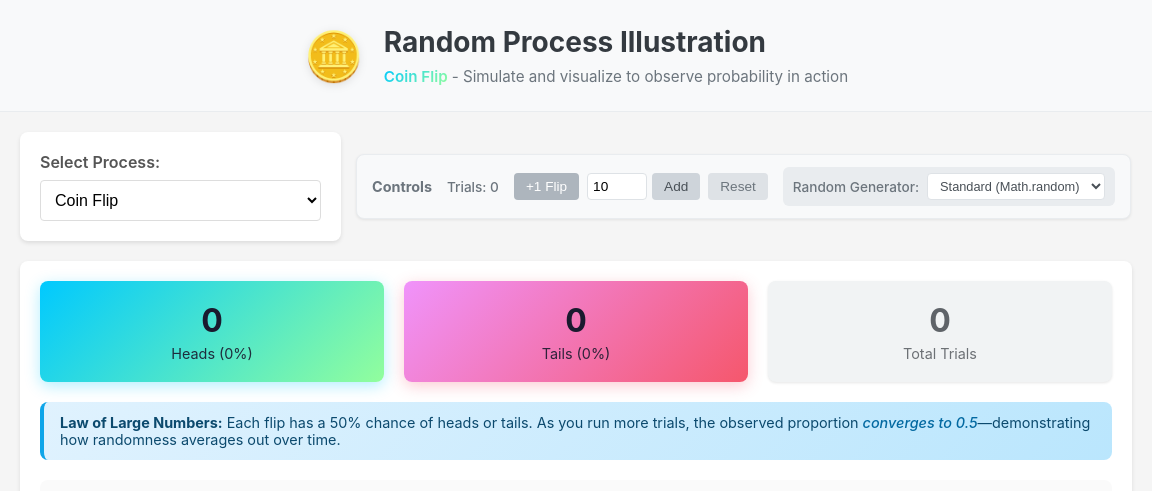
Scenario: App Component › can add multiple trials
This screenshot has width=1152, height=491.
What coordinates should you click on to do the following:
click the button "Add"
I would click on:
 (676, 186)
Its box is [652,173,700,200].
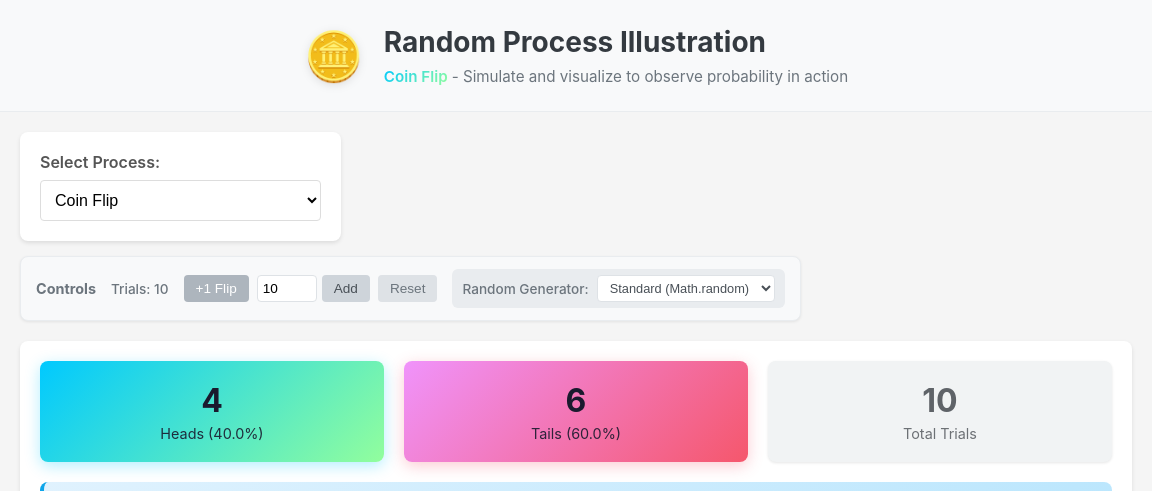
Check: the text "10" is shown, box [922,381,958,420]
